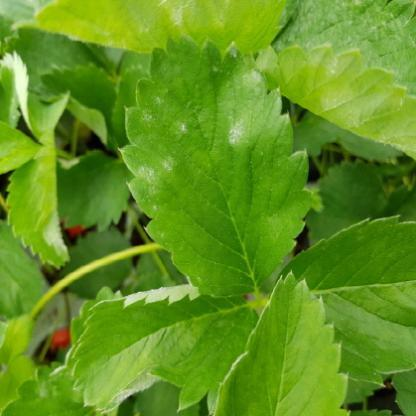Strawberry_Powdery_Mildew_Leaf: (119, 35, 315, 298), (255, 0, 415, 161), (69, 285, 262, 415), (9, 0, 291, 61), (5, 130, 71, 270)
